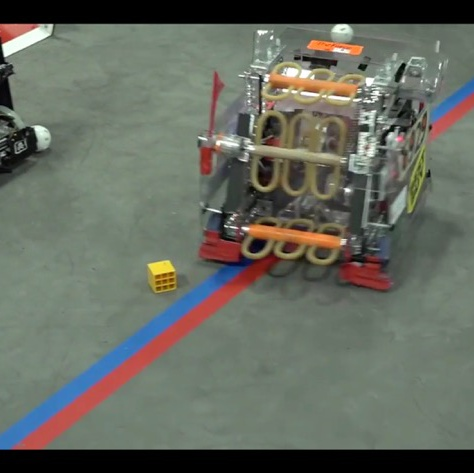robot: (193, 21, 452, 292), (0, 30, 40, 184)
